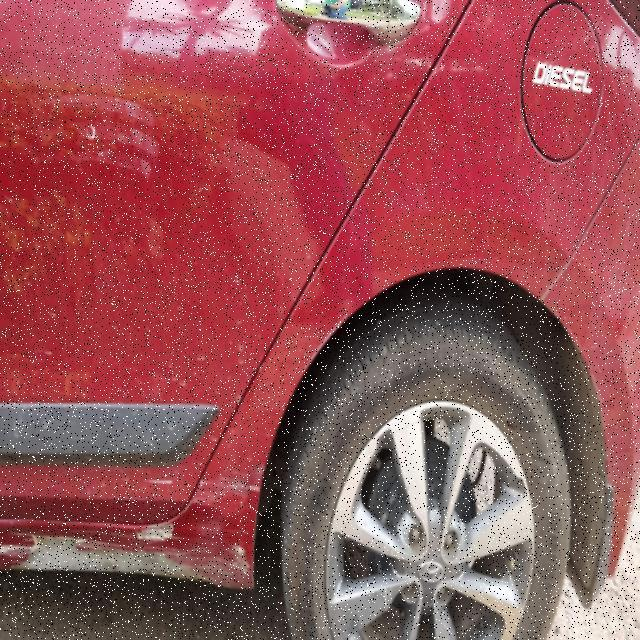RunningBoard-Dent: (0, 507, 282, 602)
